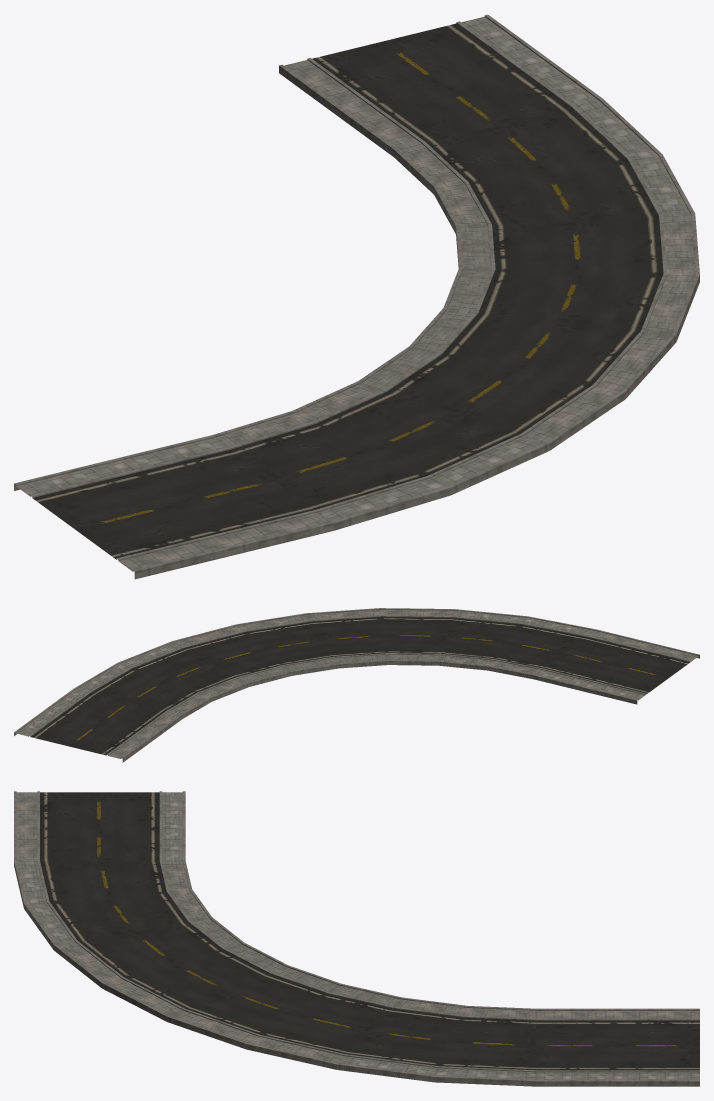
The model's file is RoadTurn.obj.
The picture shows the model from 3 angles, top to bottom: view 1: azimuth 30°, elevation 25°; view 2: azimuth 150°, elevation 25°; view 3: azimuth 270°, elevation 25°; orthographic projection. The views are drawn at different scales.
Parts seen in each view (by area): view 1: 7_Road-Turn; view 2: 7_Road-Turn; view 3: 7_Road-Turn.
Boxes of the visible parts, x1=… form: 7_Road-Turn: x1=14, y1=14, x2=699, y2=579; 7_Road-Turn: x1=14, y1=608, x2=699, y2=762; 7_Road-Turn: x1=14, y1=791, x2=699, y2=1086.
Bounding box in the file's own units: 2.48 × 0.0219 × 2.48.
Materials: 1 (1 with a texture image).
